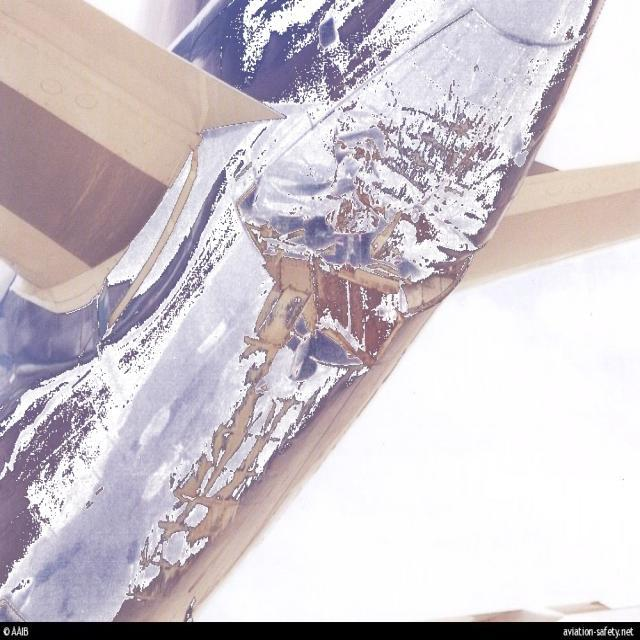crack: (233, 136, 410, 381)
